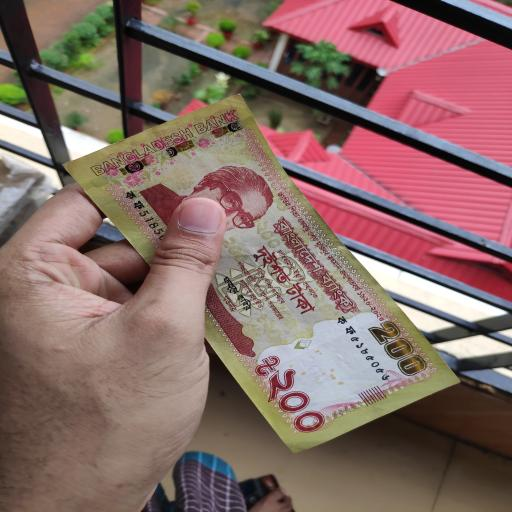200taka: (58, 91, 460, 454)
